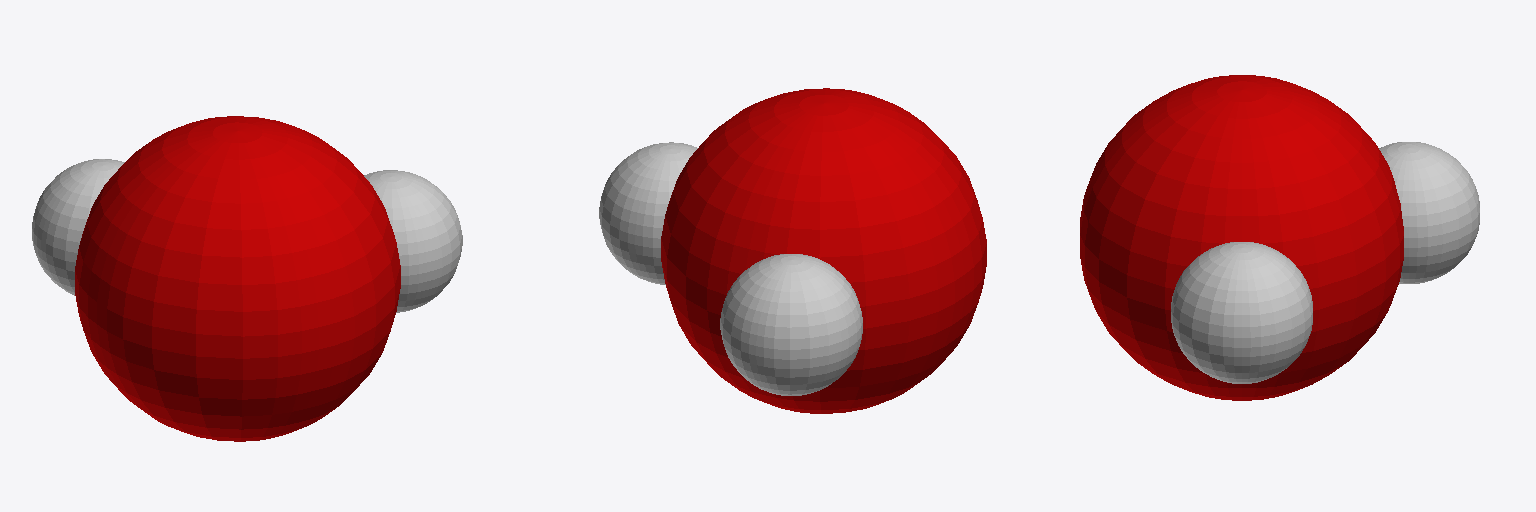
3 views of the same model, side by side, from view 1: azimuth 30°, elevation 25°; view 2: azimuth 150°, elevation 25°; view 3: azimuth 270°, elevation 25° (orthographic).
Parts seen in each view (by area): view 1: Ball_Oxygen_SurfSphere, Ball_Hydrogen_SurfSphere.001; view 2: Ball_Oxygen_SurfSphere, Ball_Hydrogen_SurfSphere.001; view 3: Ball_Oxygen_SurfSphere, Ball_Hydrogen_SurfSphere.001.
Boxes of the visible parts, <box> form: Ball_Oxygen_SurfSphere: <box>75,116,400,441</box>; Ball_Hydrogen_SurfSphere.001: <box>32,159,462,312</box>; Ball_Oxygen_SurfSphere: <box>661,88,986,413</box>; Ball_Hydrogen_SurfSphere.001: <box>599,142,862,395</box>; Ball_Oxygen_SurfSphere: <box>1080,75,1403,400</box>; Ball_Hydrogen_SurfSphere.001: <box>1171,142,1479,383</box>.
Bounding box in the file's own units: 2.23 × 1.77 × 2.17.